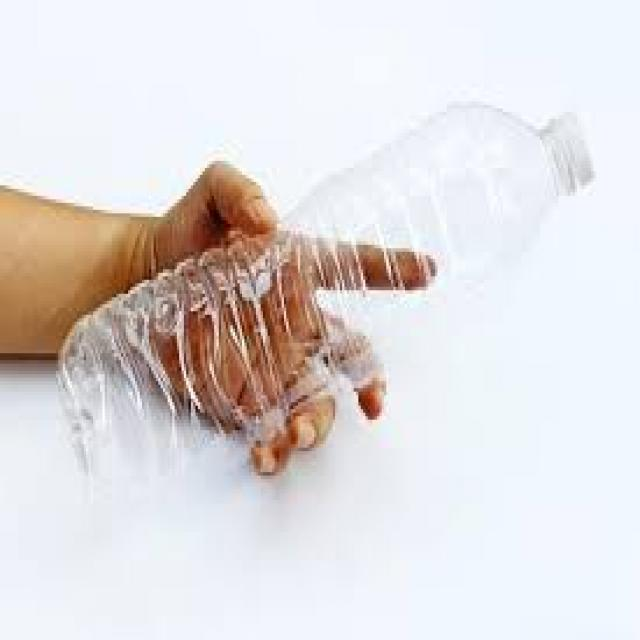Botella Plastica: (59, 102, 602, 507)
